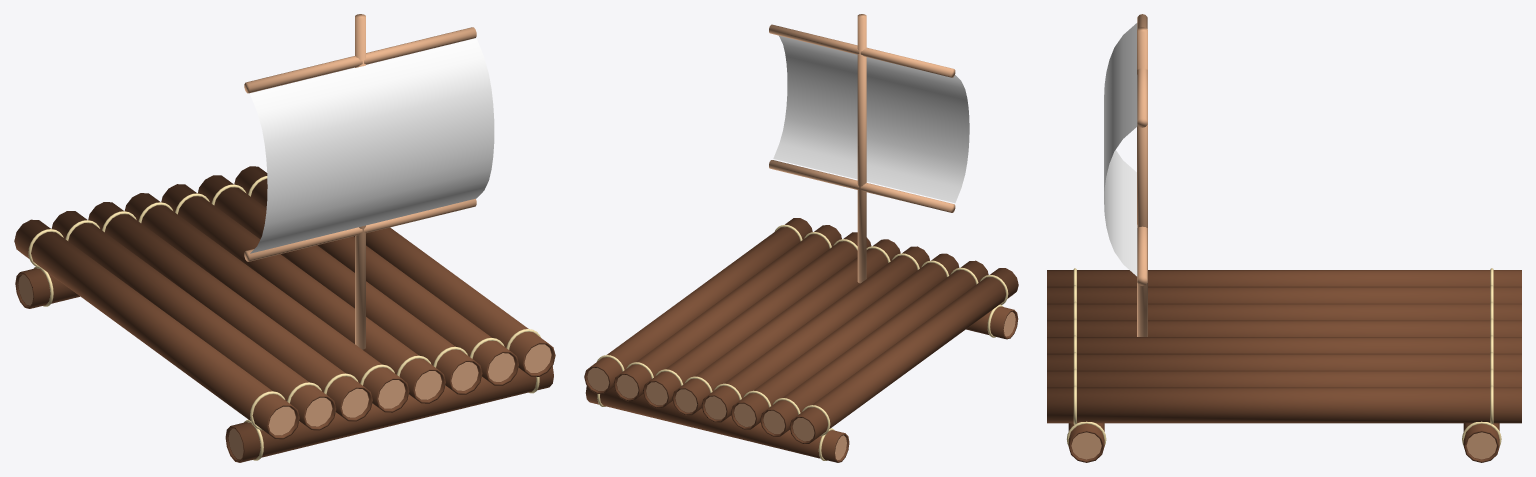
File: raft.gltf
The picture shows the model from 3 angles, left to right: view 1: azimuth 30°, elevation 25°; view 2: azimuth 150°, elevation 25°; view 3: azimuth 270°, elevation 25°; orthographic projection. The views are drawn at different scales.
Visible parts, largest first — view 1: raft, Plane, Cylinder.001, Cylinder.005, Cylinder.004, Cylinder.002; view 2: raft, Plane, Cylinder.001, Cylinder.002, Cylinder.004, Cylinder.005; view 3: raft, Plane, Cylinder.001, Cylinder.002, Cylinder.005, Cylinder.004.
Part boxes in pixels (x1=…): raft: x1=14, y1=166, x2=555, y2=439; Plane: x1=250, y1=38, x2=494, y2=253; Cylinder.001: x1=15, y1=266, x2=553, y2=462; Cylinder.005: x1=244, y1=27, x2=476, y2=93; Cylinder.004: x1=244, y1=198, x2=476, y2=261; Cylinder.002: x1=355, y1=14, x2=365, y2=349; raft: x1=584, y1=218, x2=1018, y2=443; Plane: x1=773, y1=35, x2=969, y2=202; Cylinder.001: x1=585, y1=304, x2=1018, y2=462; Cylinder.002: x1=857, y1=14, x2=866, y2=283; Cylinder.004: x1=769, y1=160, x2=955, y2=212; Cylinder.005: x1=769, y1=24, x2=955, y2=77; raft: x1=1047, y1=268, x2=1521, y2=424; Plane: x1=1104, y1=23, x2=1137, y2=276; Cylinder.001: x1=1066, y1=421, x2=1501, y2=462; Cylinder.002: x1=1137, y1=27, x2=1147, y2=336; Cylinder.005: x1=1137, y1=14, x2=1147, y2=127; Cylinder.004: x1=1137, y1=226, x2=1147, y2=285.
Size of the model in its own units: 2.73 by 3.26 by 3.86.
